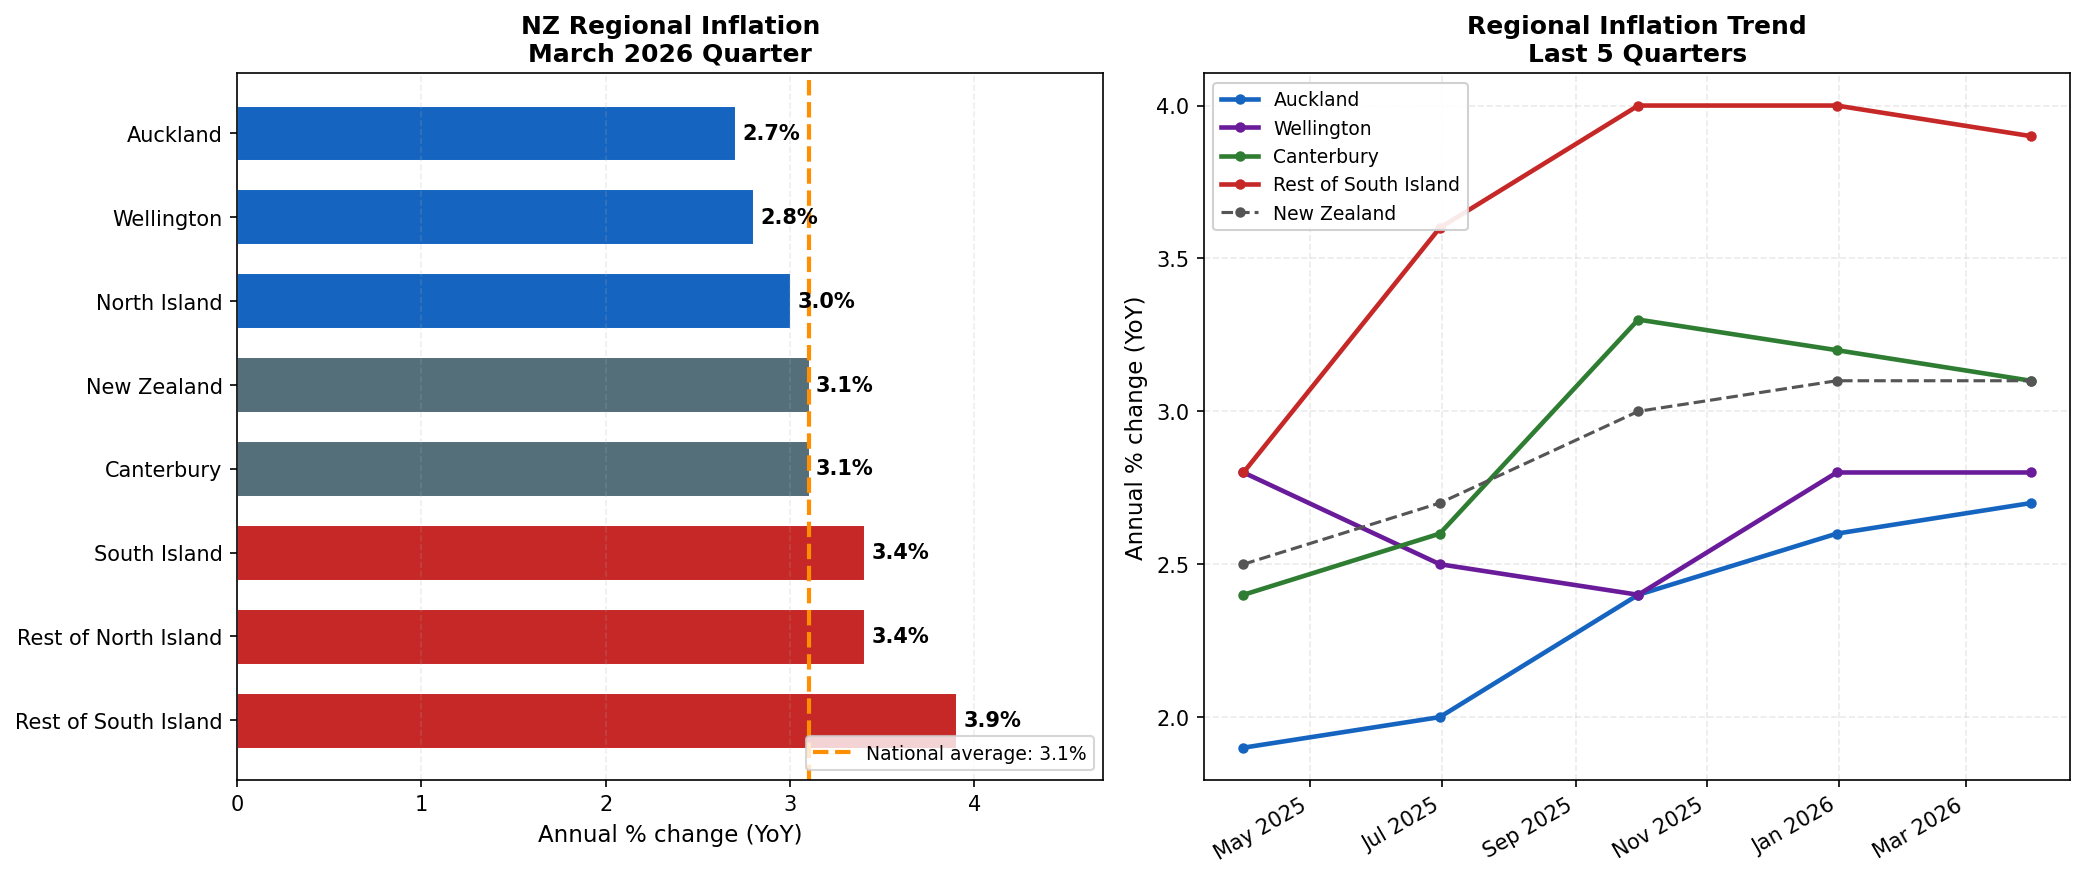

What the dashboard file says about the page in this screenshot:
{"tool":"powerbi","page":{"name":"Regional Story","canvas":[1280,720],"ordinal":2},"visuals":[{"type":"clusteredBarChart","title":"NZ Regional Inflation — March 2026","fields":{"Category":["cpi_regional.region"],"Y":["Sum(cpi_regional.yoy_pct_change)"]},"box":[0,68,640,546],"z":0},{"type":"lineChart","fields":{"Y":["Sum(cpi_regional.yoy_pct_change)"],"Series":["cpi_regional.region"],"Category":["cpi_regional.period_date"]},"box":[640,68,640,546],"z":1000},{"type":"textbox","box":[480,654,516,44],"z":2000},{"type":"textbox","box":[434,0,478,68],"z":2001}]}

Visuals, with their boxes on the page's 1280x720 design canvas (x1, y1, x2, y2). These are canvas units, not pixel positions in the 2085x878 screenshot, which may show the page scaled, cropped or inside an application window:
"NZ Regional Inflation — March 2026" clusteredBarChart: bbox(0, 68, 640, 614)
lineChart - Sum(cpi_regional.yoy_pct_change) x cpi_regional.region: bbox(640, 68, 1280, 614)
textbox: bbox(480, 654, 996, 698)
textbox: bbox(434, 0, 912, 68)
